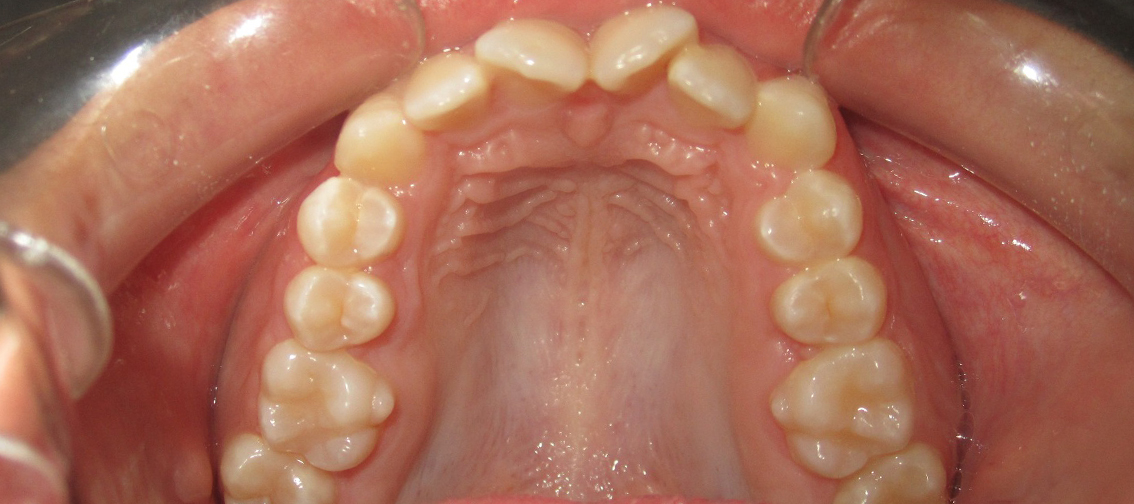UL1BC_healthy: (751, 179, 856, 270)
UL1M_healthy: (772, 344, 912, 480)
UL2BC_healthy: (771, 255, 884, 350)
ULCI_healthy: (597, 4, 697, 98)
ULC_healthy: (747, 87, 832, 166)
ULLI_healthy: (667, 57, 755, 127)
UR1BC_healthy: (287, 177, 415, 266)
UR1M_healthy: (260, 348, 397, 473)
UR2BC_healthy: (279, 273, 386, 351)
URCI_healthy: (482, 20, 590, 102)
URC_healthy: (338, 108, 447, 186)
URLI_healthy: (404, 58, 490, 127)
